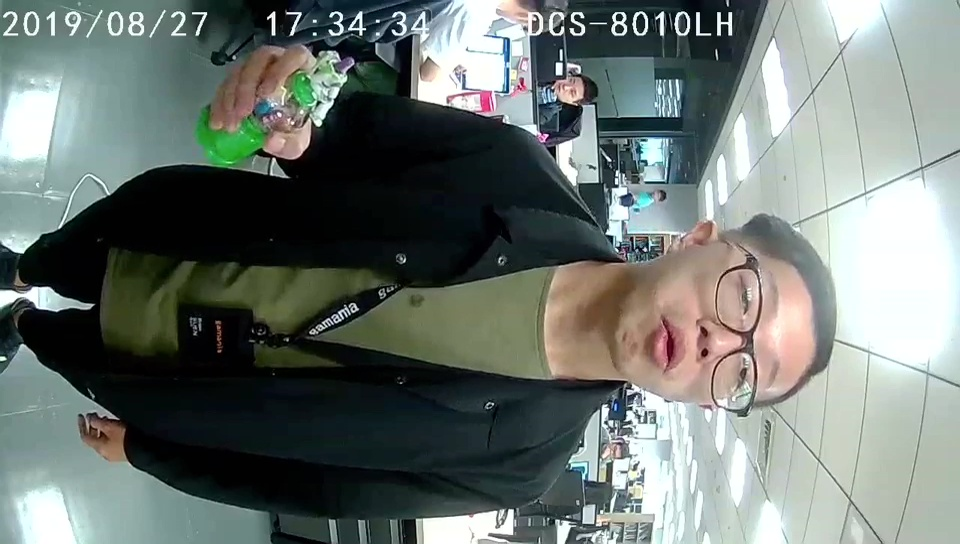buzz: (194, 49, 355, 166)
